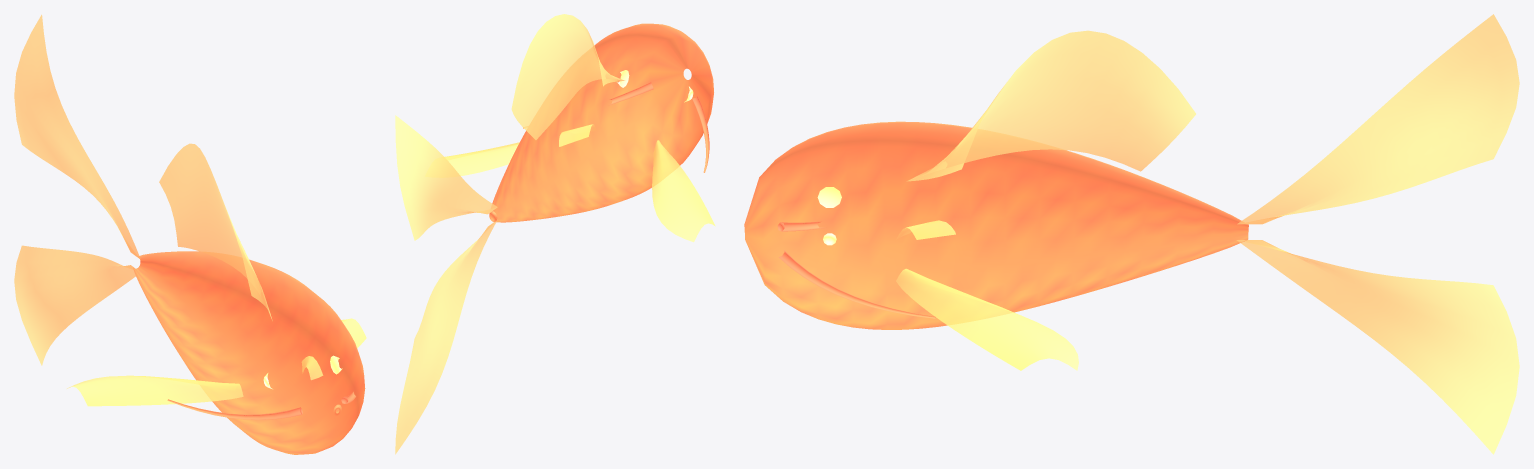
Rendered from redfish.glb.
3 views of the same model, side by side, from view 1: azimuth 30°, elevation 25°; view 2: azimuth 150°, elevation 25°; view 3: azimuth 270°, elevation 25° (orthographic). The views are drawn at different scales.
Visible parts, largest first — view 1: redfish; view 2: redfish; view 3: redfish.
Boxes of the visible parts, bbox=[...] form: redfish: bbox=[14, 14, 366, 454]; redfish: bbox=[395, 14, 715, 454]; redfish: bbox=[744, 14, 1519, 454].
Size of the model in its own units: 2.32 by 2.8 by 4.46.
